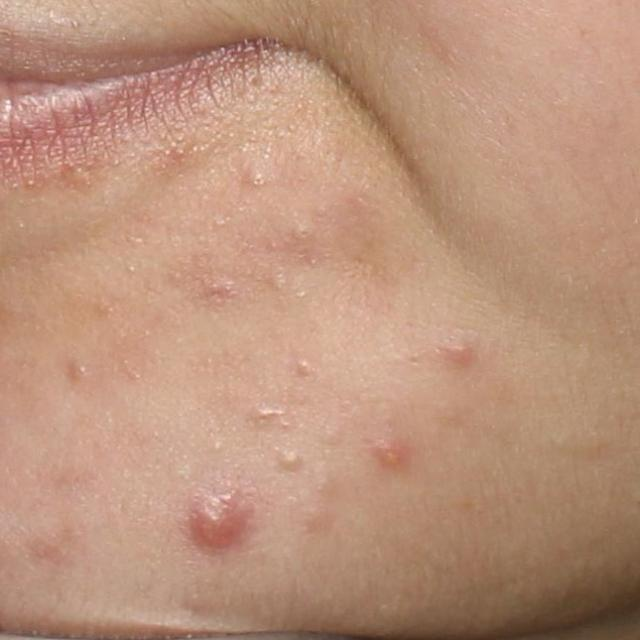nodule: (194, 496, 238, 545)
